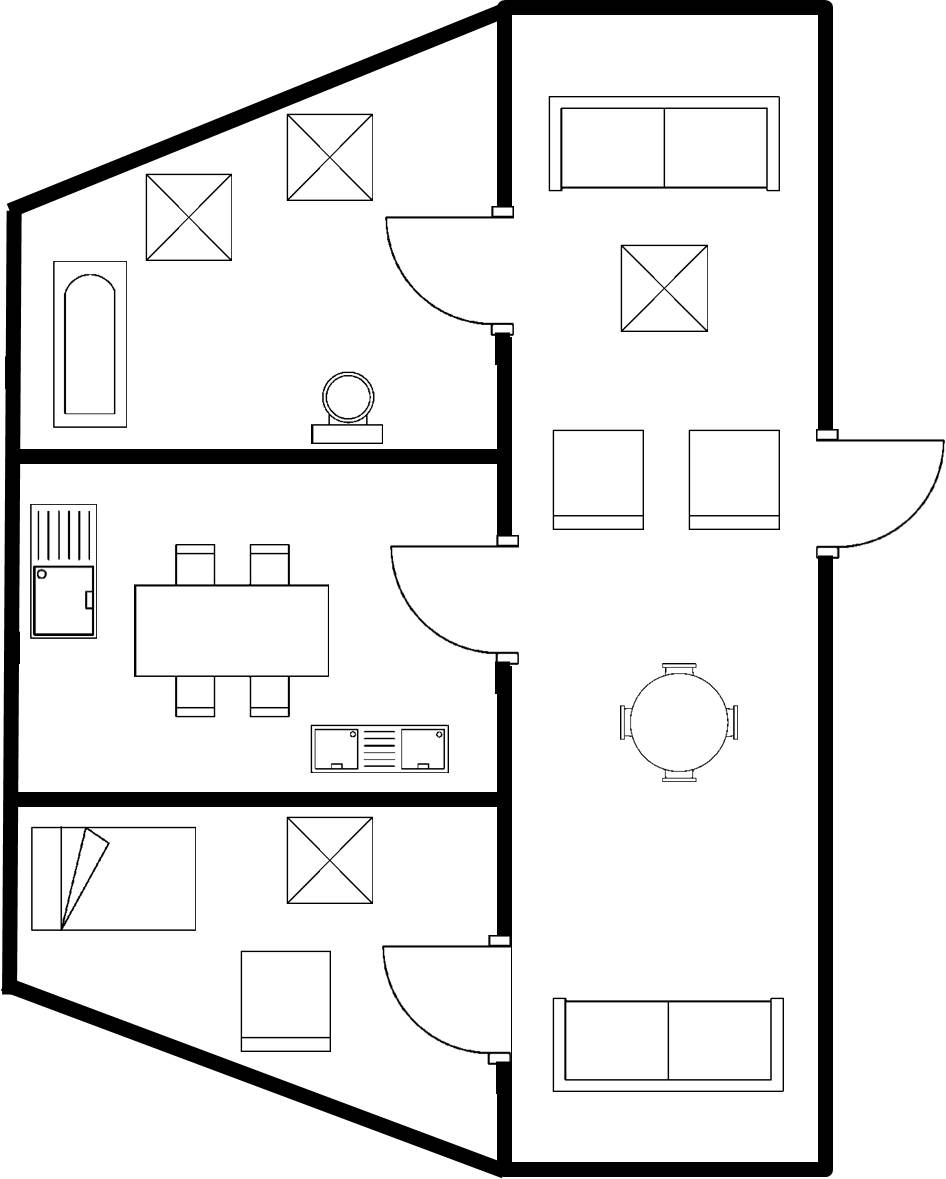bed: (26, 818, 216, 940)
coffee_table: (136, 167, 242, 276), (609, 237, 719, 340), (274, 812, 384, 914), (282, 106, 384, 212)
dining_table: (123, 532, 337, 721)
large_sink: (298, 362, 392, 452)
large_sofa: (539, 87, 789, 202), (540, 989, 794, 1102)
round_table: (609, 650, 747, 791)
sink: (22, 498, 105, 644)
small_sofa: (677, 418, 793, 540), (543, 418, 653, 541), (229, 942, 343, 1058)
tub: (42, 257, 135, 435)
twin_sink: (299, 717, 455, 782)
